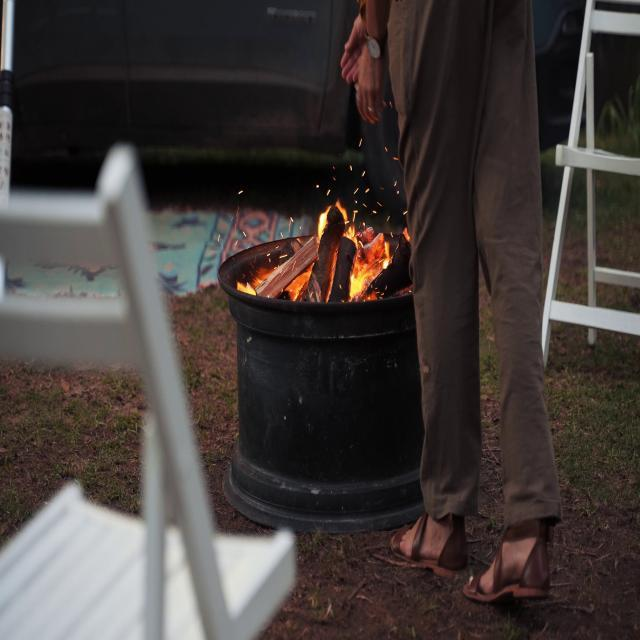Fire: (312, 185, 396, 301)
